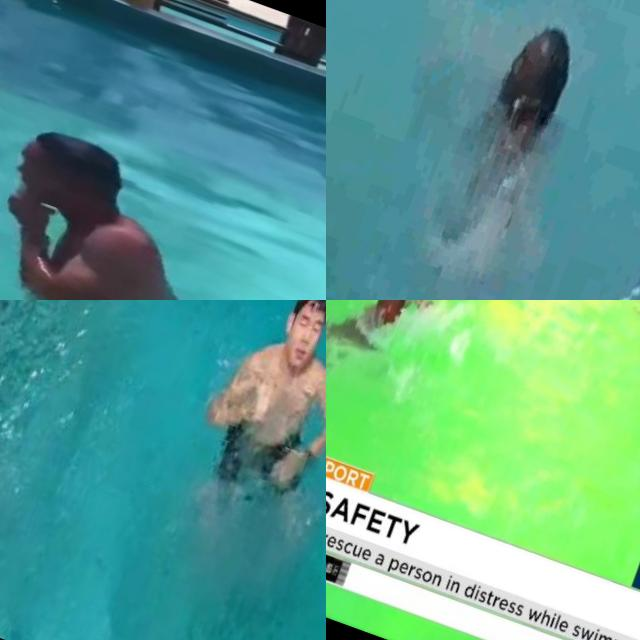drowning: (379, 0, 620, 286), (326, 300, 449, 415)
swimming: (0, 95, 315, 300), (165, 300, 326, 522), (603, 300, 640, 375)
